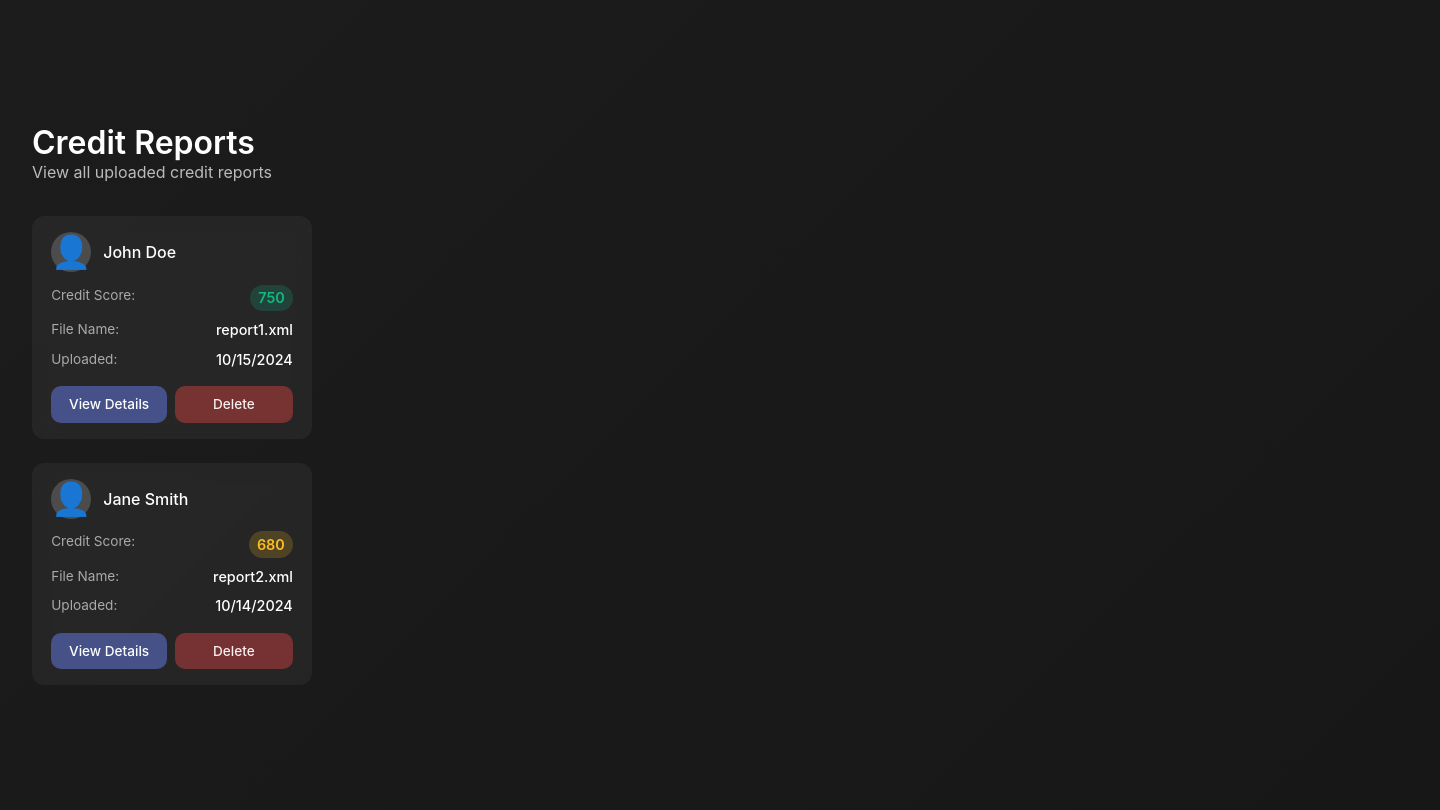
ReportsListPage Component Tests › Report Actions › delete button shows loading state
The image size is (1440, 810).
Check: the heading "John Doe" is shown, box [103,240,176,264]
What coordinates should you click on to do the following:
click the button "Delete" below "10/15/2024"
I would click on:
 (234, 404)
Its box is [175,386,293,423].
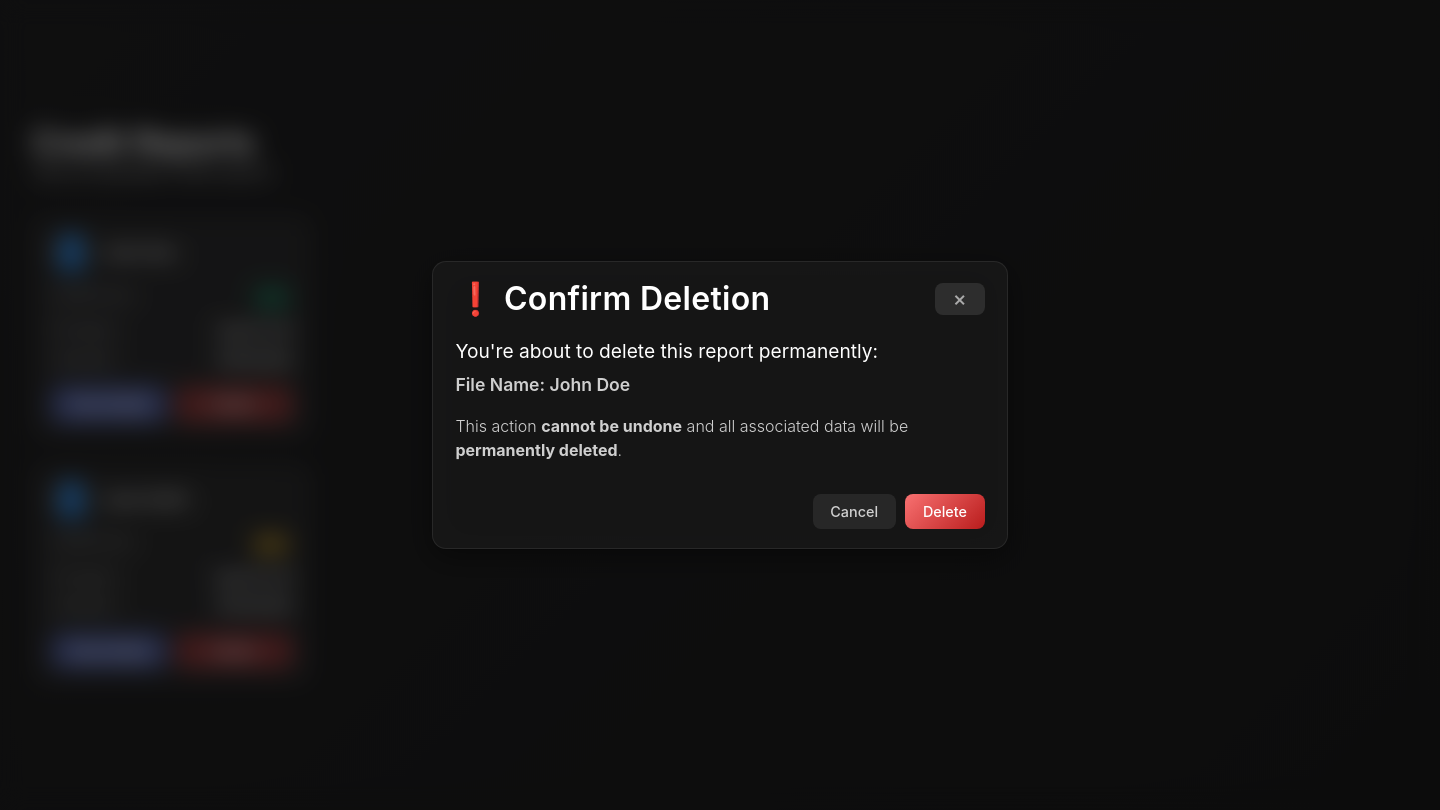
Check: the heading "❗ Confirm Deletion" is shown, box [455,281,770,316]
What coordinates should you click on to do the following:
click the button with class "confirm-delete-btn"
I would click on:
 (945, 512)
Its box is [905,494,985,529].
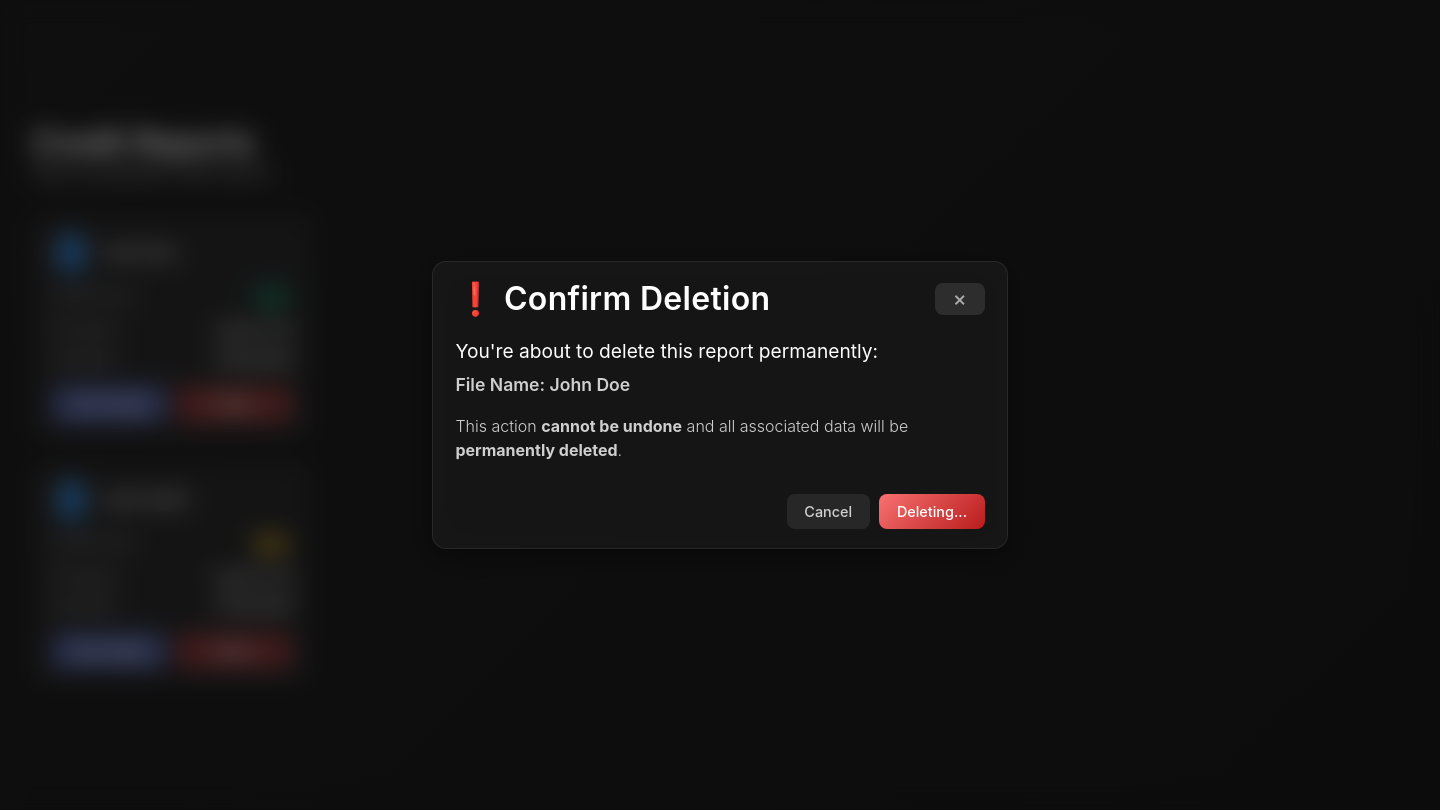
Check: the button "Deleting..." is shown, box [879,494,985,529]
